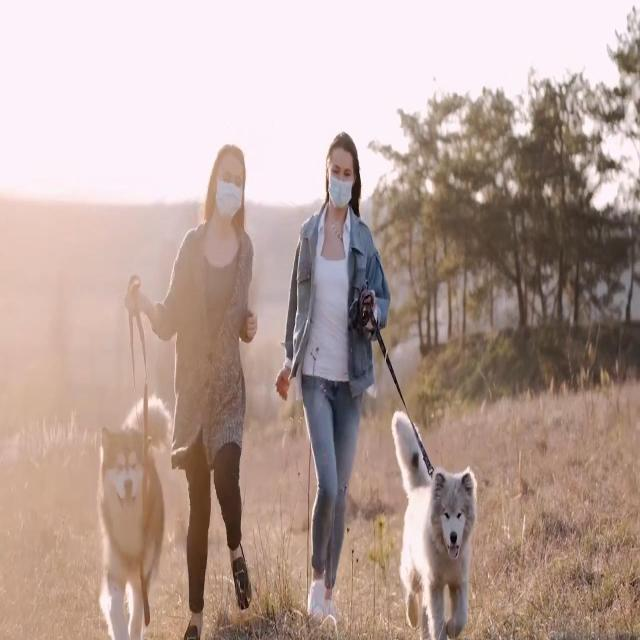no-helmet: (213, 163, 245, 222), (326, 151, 354, 214)
